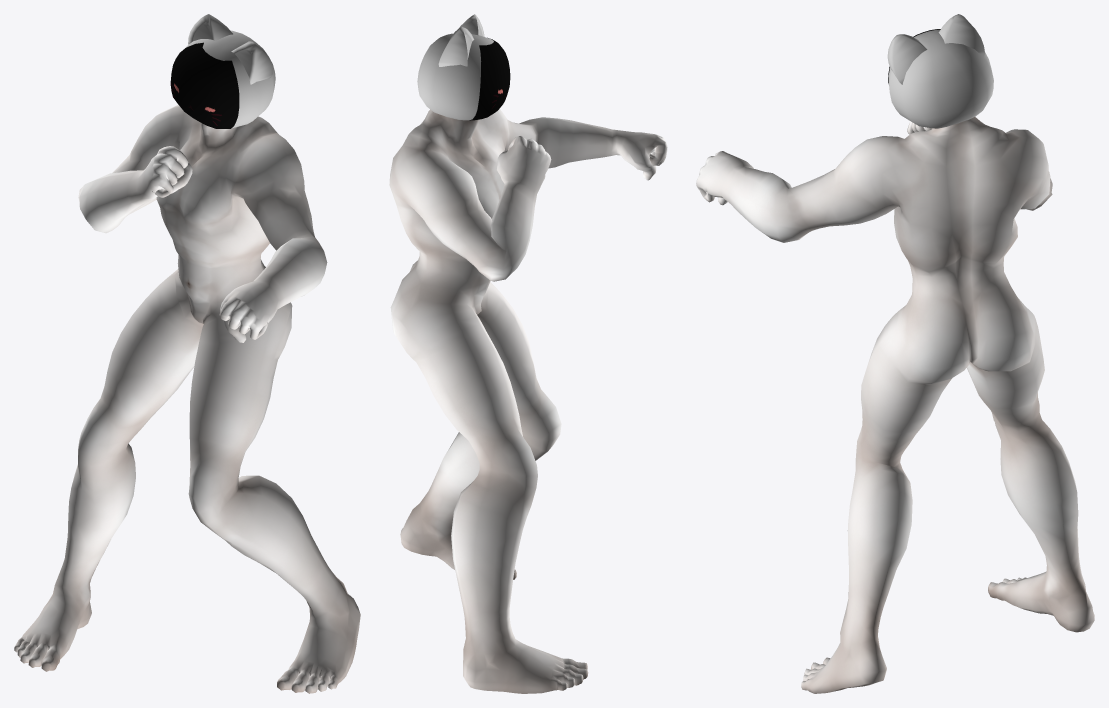
3 views of the same model, side by side, from view 1: azimuth 30°, elevation 25°; view 2: azimuth 150°, elevation 25°; view 3: azimuth 270°, elevation 25° (orthographic). The views are drawn at different scales.
Visible parts, largest first — view 1: Muscle_Body, ______?001, Cat_Head; view 2: Muscle_Body, Cat_Head, ______?001; view 3: Muscle_Body, Cat_Head.
Boxes of the visible parts, left/top/right/bottom form: Muscle_Body: left=14, top=104, right=360, bottom=693; ______?001: left=170, top=42, right=239, bottom=128; Cat_Head: left=184, top=14, right=275, bottom=128; Muscle_Body: left=389, top=109, right=667, bottom=693; Cat_Head: left=417, top=14, right=493, bottom=120; ______?001: left=469, top=37, right=510, bottom=120; Muscle_Body: left=696, top=116, right=1094, bottom=693; Cat_Head: left=887, top=14, right=993, bottom=128.
Size of the model in its own units: 12.17 by 27.96 by 15.44.
